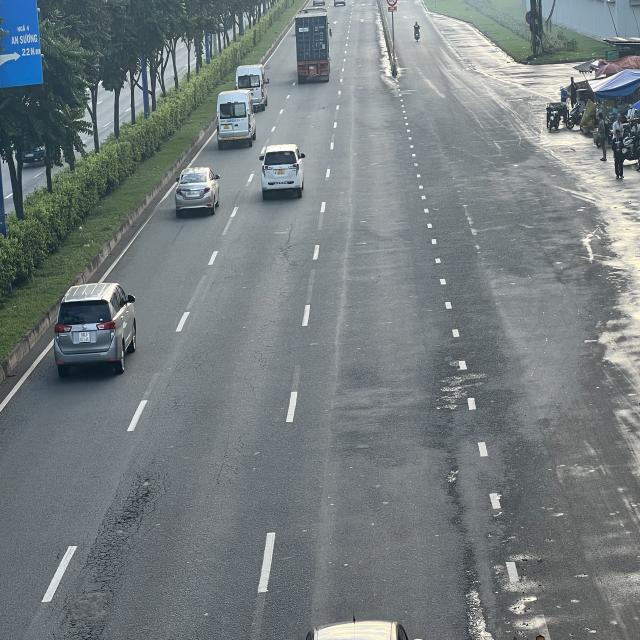car: (50, 284, 136, 376), (259, 143, 305, 196), (178, 168, 223, 216)
container: (293, 12, 331, 85)
van: (214, 92, 255, 148), (235, 66, 269, 111)
